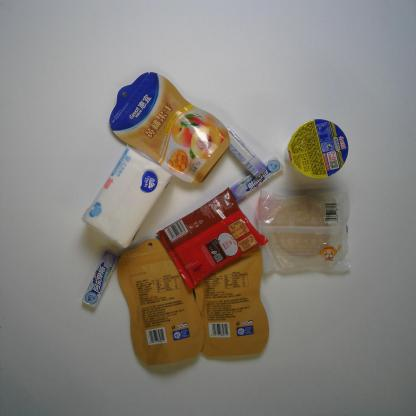Candy: (227, 154, 287, 202), (80, 247, 123, 310), (224, 123, 267, 179)
Dessert: (154, 186, 271, 290), (255, 186, 354, 276)
Dried Fruit: (106, 69, 231, 185), (116, 233, 206, 368), (190, 242, 270, 360)
Instant Noodles: (285, 116, 351, 182)
Tissue: (79, 143, 175, 254)
